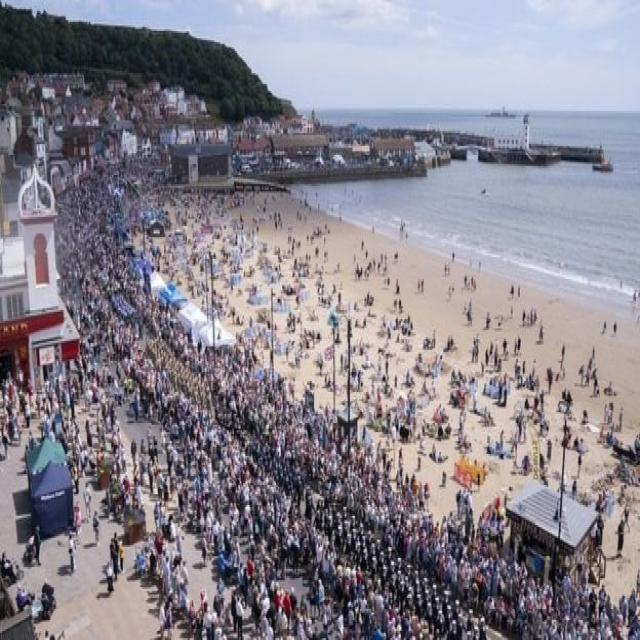human: (2, 355, 130, 628), (306, 229, 446, 463), (55, 162, 185, 377), (468, 535, 638, 635), (454, 273, 547, 440), (140, 178, 256, 298), (232, 190, 341, 302), (300, 193, 428, 265), (68, 362, 127, 481), (137, 516, 190, 626), (130, 420, 188, 518), (572, 342, 622, 455), (2, 365, 47, 462), (375, 373, 431, 445), (1, 545, 52, 619), (292, 186, 368, 227), (37, 369, 76, 431), (443, 255, 481, 309), (353, 249, 391, 285), (578, 348, 600, 396), (618, 282, 640, 319), (600, 312, 624, 340), (232, 593, 244, 640), (626, 596, 640, 635), (41, 579, 55, 618), (16, 586, 32, 612), (110, 538, 119, 580), (451, 388, 468, 410), (68, 533, 77, 574), (1, 553, 13, 581), (457, 432, 472, 454), (34, 525, 42, 565), (164, 604, 173, 639), (618, 481, 630, 507), (495, 137, 522, 148), (84, 483, 92, 520), (595, 516, 604, 548), (26, 536, 36, 564), (482, 406, 495, 427), (136, 550, 146, 577), (25, 440, 33, 473), (630, 291, 640, 317), (2, 426, 10, 458), (106, 560, 114, 592), (42, 628, 63, 640), (143, 263, 151, 294), (463, 274, 477, 291), (93, 511, 100, 545), (617, 523, 624, 556), (74, 504, 82, 532), (623, 502, 631, 528), (118, 538, 124, 570), (399, 220, 409, 239), (604, 382, 616, 396), (133, 394, 139, 421), (24, 402, 30, 428), (74, 469, 80, 495), (578, 364, 585, 385), (618, 408, 624, 432), (547, 367, 553, 391), (592, 376, 599, 396), (553, 502, 560, 520), (417, 278, 424, 293), (572, 480, 577, 500), (496, 315, 503, 329), (636, 434, 640, 458), (435, 450, 442, 463), (448, 284, 454, 299), (632, 289, 638, 304), (57, 629, 65, 640), (476, 471, 481, 488), (442, 471, 447, 487), (444, 263, 450, 276), (419, 278, 425, 290), (561, 345, 565, 361), (45, 631, 52, 640), (602, 322, 607, 334), (464, 275, 468, 288), (510, 285, 514, 297), (614, 322, 617, 335), (339, 210, 342, 223), (469, 256, 472, 268), (637, 291, 640, 303), (452, 251, 455, 262), (637, 313, 640, 324), (217, 329, 220, 340), (405, 232, 408, 241), (518, 286, 520, 297), (372, 226, 375, 233), (541, 139, 544, 145), (479, 262, 481, 270), (620, 280, 622, 288)
